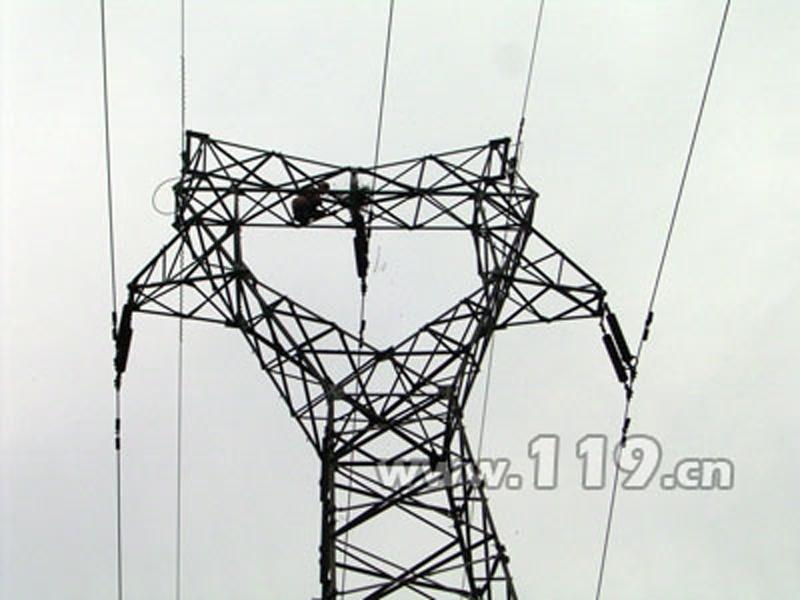power_tower: (97, 117, 684, 593)
